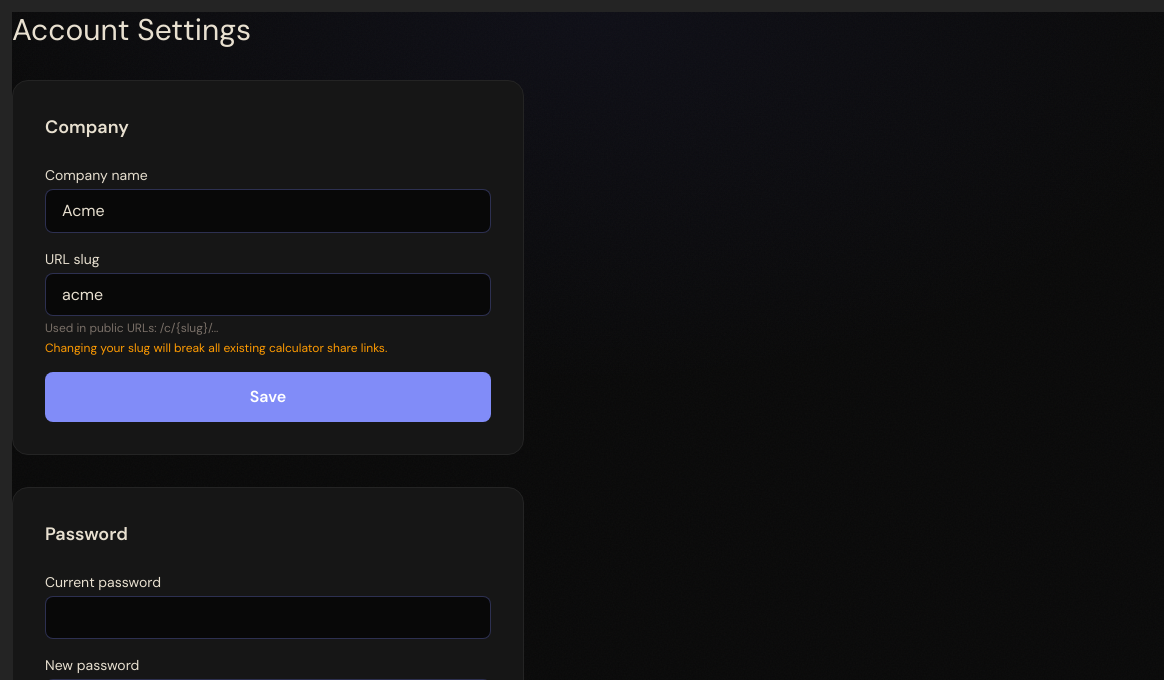
Test: SettingsPage › shows translated error message when slug is already taken
The image size is (1164, 680).
Expected: the field labelled "Company name" holds "Acme", [45, 189, 491, 233]
Replace the text in the field labelled "URL slug" with "taken-slug" at (268, 294), box [45, 273, 491, 316]
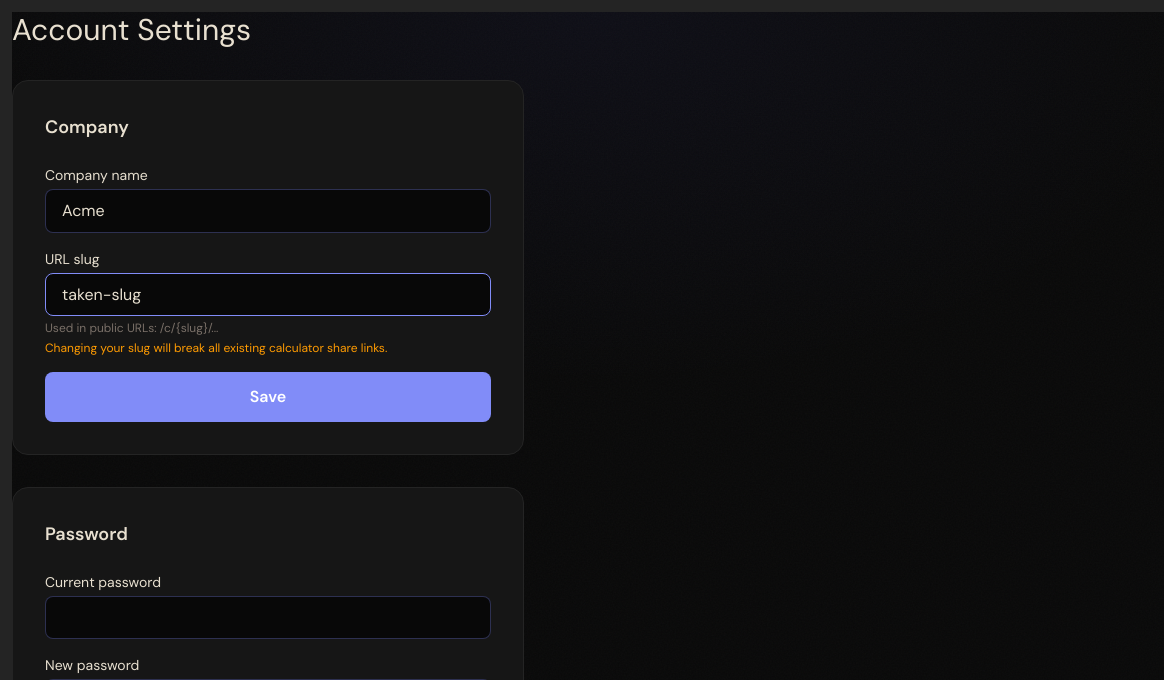
Click the button "Save".
click(268, 397)  # box [45, 372, 491, 422]
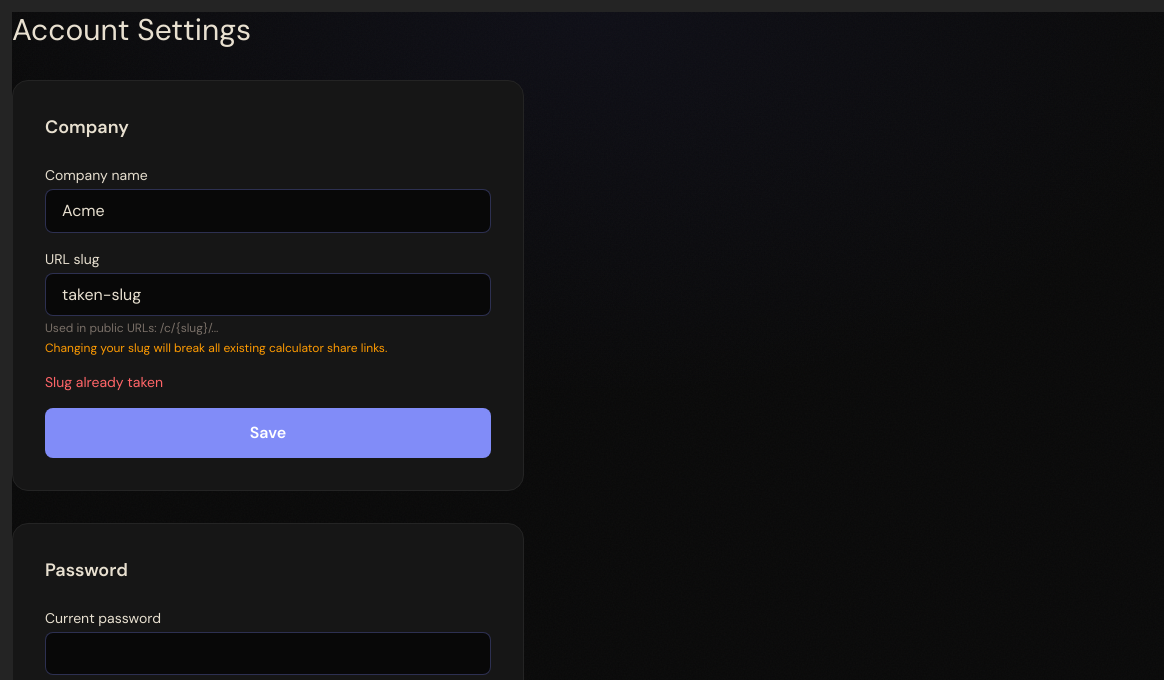
Expected: the text "Slug already taken" is shown, [45, 373, 163, 391]
